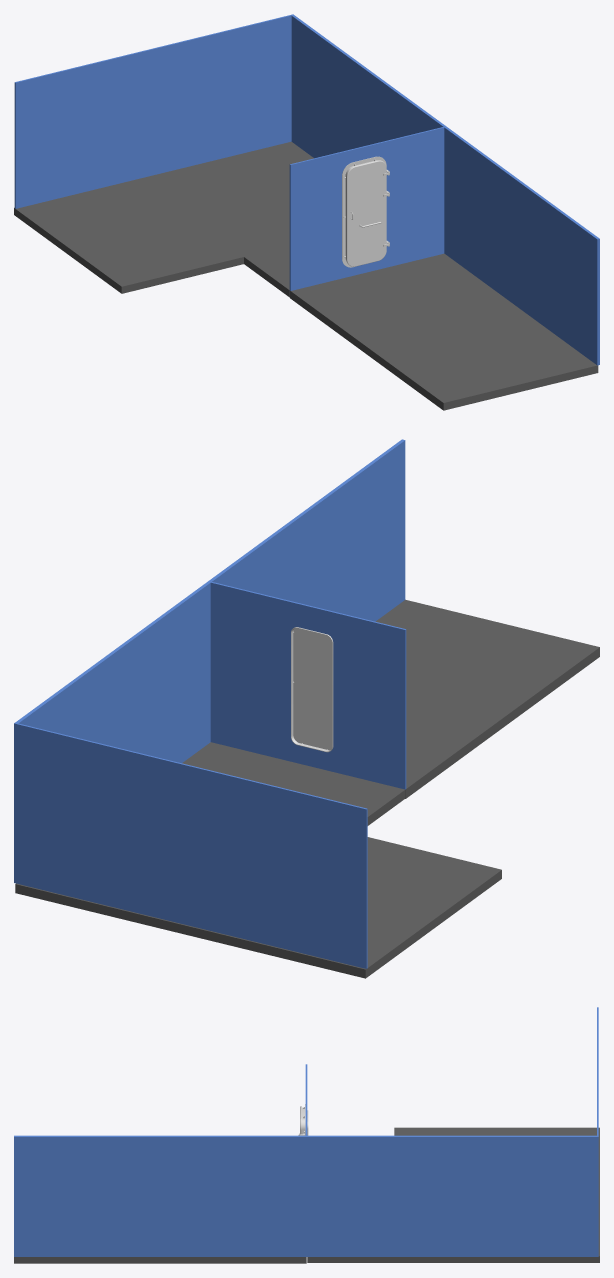
Rendered from shiphallway.glb.
3 views of the same model, one above another, from view 1: azimuth 30°, elevation 25°; view 2: azimuth 150°, elevation 25°; view 3: azimuth 270°, elevation 25° (orthographic). The views are drawn at different scales.
Visible parts, largest first — view 1: Cube.003, Cube, Plane.003, Plane.002, _HINGE_PIVOT_6.002, Volume23205_2.002; view 2: Cube.003, Cube, Plane.002, Plane.003, _HINGE_PIVOT_6.002, Volume23205_2.002; view 3: Cube, Cube.003, Plane.003, Plane.002.
Boxes of the visible parts, x1,y1,x2,y2 form: Cube.003: (14,14,445,208); Cube: (289,126,599,365); Plane.003: (14,141,313,297); Plane.002: (290,253,598,410); _HINGE_PIVOT_6.002: (346,160,389,266); Volume23205_2.002: (342,156,389,267); Cube.003: (14,581,367,968); Cube: (208,439,406,789); Plane.002: (376,599,599,798); Plane.003: (15,742,501,978); _HINGE_PIVOT_6.002: (293,628,331,750); Volume23205_2.002: (291,627,333,752); Cube: (14,1064,307,1256); Cube.003: (305,1007,598,1256); Plane.003: (307,1127,599,1262); Plane.002: (14,1257,306,1263).
Bounding box in the file's own units: 5.7 × 2.62 × 10.9.
